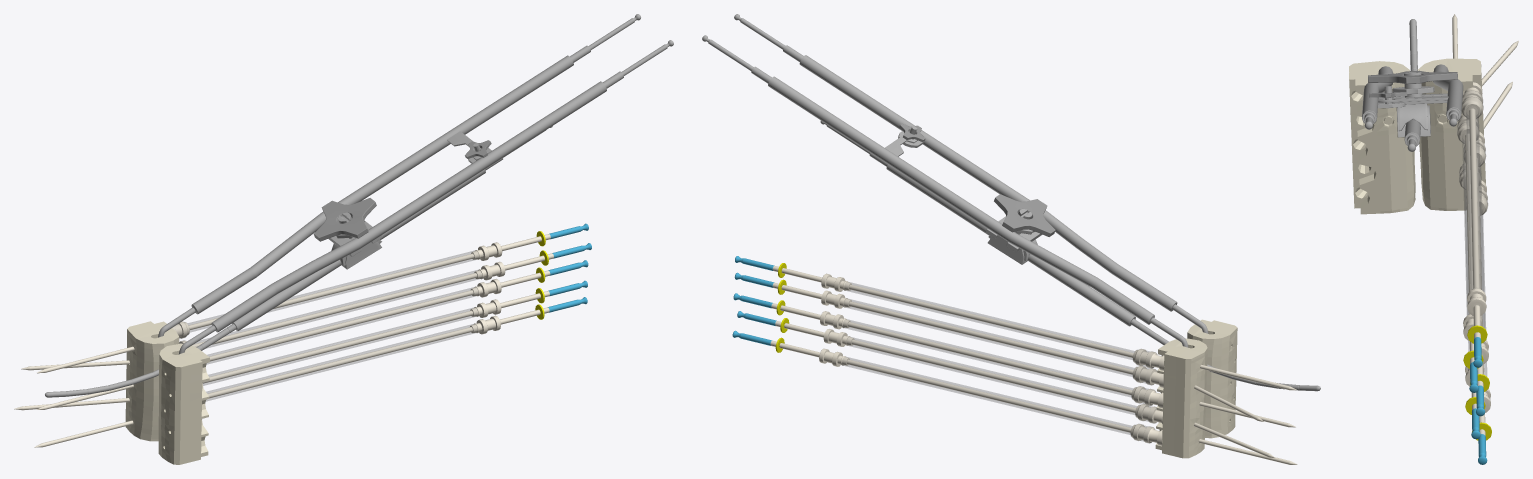
Rendered from Device_1.glb.
3 views of the same model, side by side, from view 1: azimuth 30°, elevation 25°; view 2: azimuth 150°, elevation 25°; view 3: azimuth 270°, elevation 25° (orthographic). The views are drawn at different scales.
Parts seen in each view (by area): view 1: tandem_11, tandem_3, Plastic_surface_Left, Plastic_surface_right, tandem_27, Buffer_Layer_12, Buffer_Layer_8, Buffer_Layer, Buffer_Layer_16, Buffer_Layer_1, Buffer_Layer_13, Buffer_Layer_9 (+4 smaller); view 2: tandem_3, tandem_11, Plastic_surface_right, Plastic_surface_Left, Buffer_Layer_1, Buffer_Layer_5, Buffer_Layer_17, Buffer_Layer_16, Buffer_Layer, Buffer_Layer_8, Buffer_Layer_4, Buffer_Layer_12 (+4 smaller); view 3: Plastic_surface_Left, Plastic_surface_right, Buffer_Layer_5, Buffer_Layer_4, Buffer_Layer_9, Buffer_Layer_8, tandem_3, tandem_4, tandem_11, tandem_27, Buffer_Layer_17, Buffer_Layer_13 (+17 smaller).
Boxes of the visible parts, x1,y1,x2,y2 form: tandem_11: [178, 40, 673, 354]; tandem_3: [158, 14, 640, 337]; Plastic_surface_Left: [158, 344, 209, 464]; Plastic_surface_right: [125, 321, 179, 441]; tandem_27: [45, 126, 552, 397]; Buffer_Layer_12: [203, 307, 477, 385]; Buffer_Layer_8: [179, 270, 481, 348]; Buffer_Layer: [206, 324, 477, 401]; Buffer_Layer_16: [206, 287, 477, 364]; Buffer_Layer_1: [34, 307, 549, 447]; Buffer_Layer_13: [14, 291, 549, 410]; Buffer_Layer_9: [21, 253, 553, 370]; tandem_3: [702, 35, 1188, 347]; tandem_11: [734, 14, 1208, 333]; Plastic_surface_right: [1155, 338, 1207, 458]; Plastic_surface_Left: [1187, 319, 1237, 438]; Buffer_Layer_1: [770, 340, 1297, 464]; Buffer_Layer_5: [772, 265, 1296, 390]; Buffer_Layer_17: [771, 303, 1295, 427]; Buffer_Layer_16: [843, 319, 1155, 405]; Buffer_Layer: [842, 357, 1154, 442]; Buffer_Layer_8: [844, 299, 1156, 384]; Buffer_Layer_4: [844, 282, 1156, 368]; Buffer_Layer_12: [846, 337, 1156, 423]; Plastic_surface_Left: [1349, 61, 1415, 214]; Plastic_surface_right: [1417, 58, 1485, 210]; Buffer_Layer_5: [1452, 14, 1486, 338]; Buffer_Layer_4: [1462, 90, 1483, 290]; Buffer_Layer_9: [1457, 41, 1518, 364]; Buffer_Layer_8: [1457, 116, 1479, 314]; tandem_3: [1433, 64, 1463, 126]; tandem_4: [1368, 70, 1457, 84]; tandem_11: [1362, 66, 1393, 129]; tandem_27: [1404, 19, 1420, 151]; Buffer_Layer_17: [1464, 131, 1488, 387]; Buffer_Layer_13: [1459, 81, 1512, 409].
Bounding box in the file's own units: 0.2284 × 0.1076 × 0.0425.
